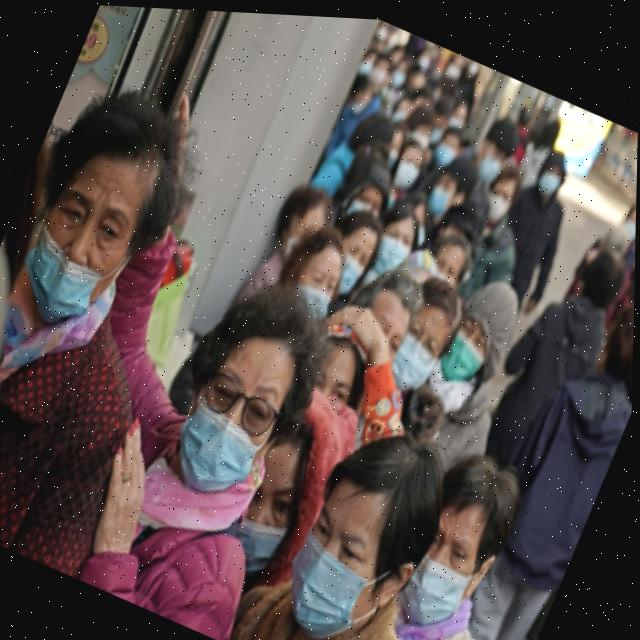Mask: (4, 200, 142, 345), (159, 384, 282, 507), (274, 526, 406, 640), (394, 541, 487, 638), (221, 502, 296, 584), (380, 320, 446, 395), (435, 316, 497, 389), (366, 221, 417, 280), (287, 273, 337, 321), (331, 247, 369, 298), (477, 178, 517, 222), (473, 146, 505, 182), (394, 155, 424, 189), (535, 161, 566, 193), (427, 180, 453, 213), (432, 140, 459, 166)
